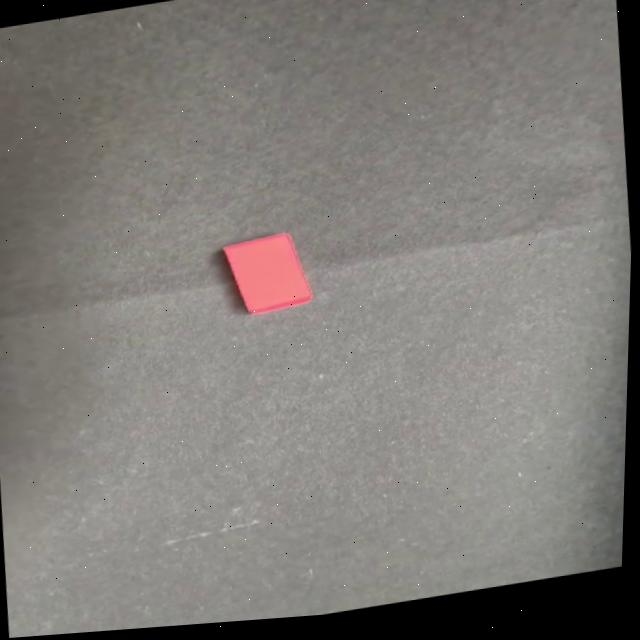red block: (217, 226, 315, 318)
